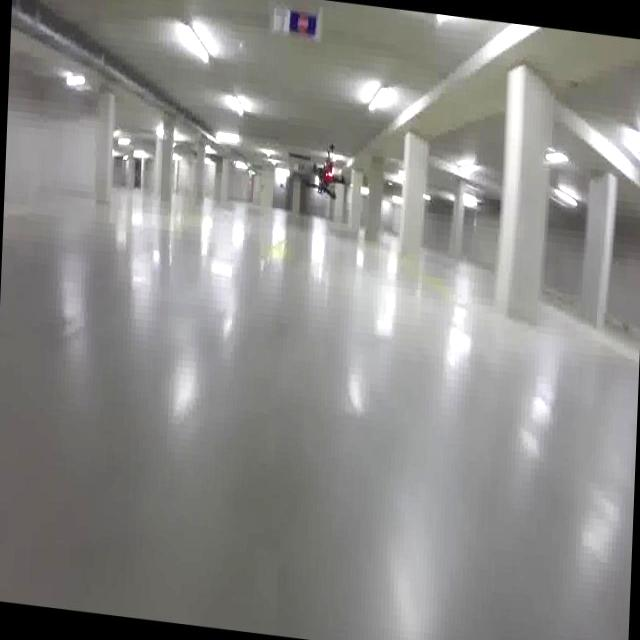drone: (296, 140, 354, 216)
